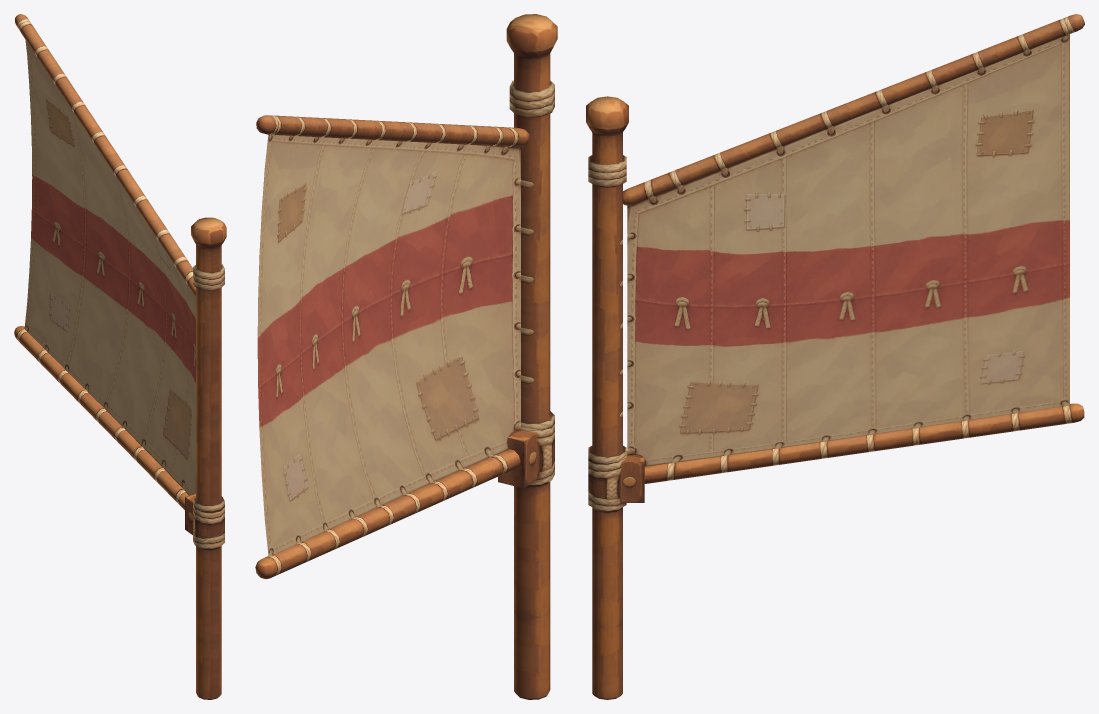
File: sail-rig.glb
The picture shows the model from 3 angles, left to right: view 1: azimuth 30°, elevation 25°; view 2: azimuth 150°, elevation 25°; view 3: azimuth 270°, elevation 25°; orthographic projection. The views are drawn at different scales.
Parts seen in each view (by area): view 1: sail-rig; view 2: sail-rig; view 3: sail-rig.
Part boxes in pixels (box(x1,y1,x2,y2)): sail-rig: box(14, 14, 226, 699); sail-rig: box(255, 14, 557, 699); sail-rig: box(586, 14, 1084, 699).
Size of the model in its own units: 0.3009 by 3.49 by 2.32.
Materials: 1 (1 with a texture image).
